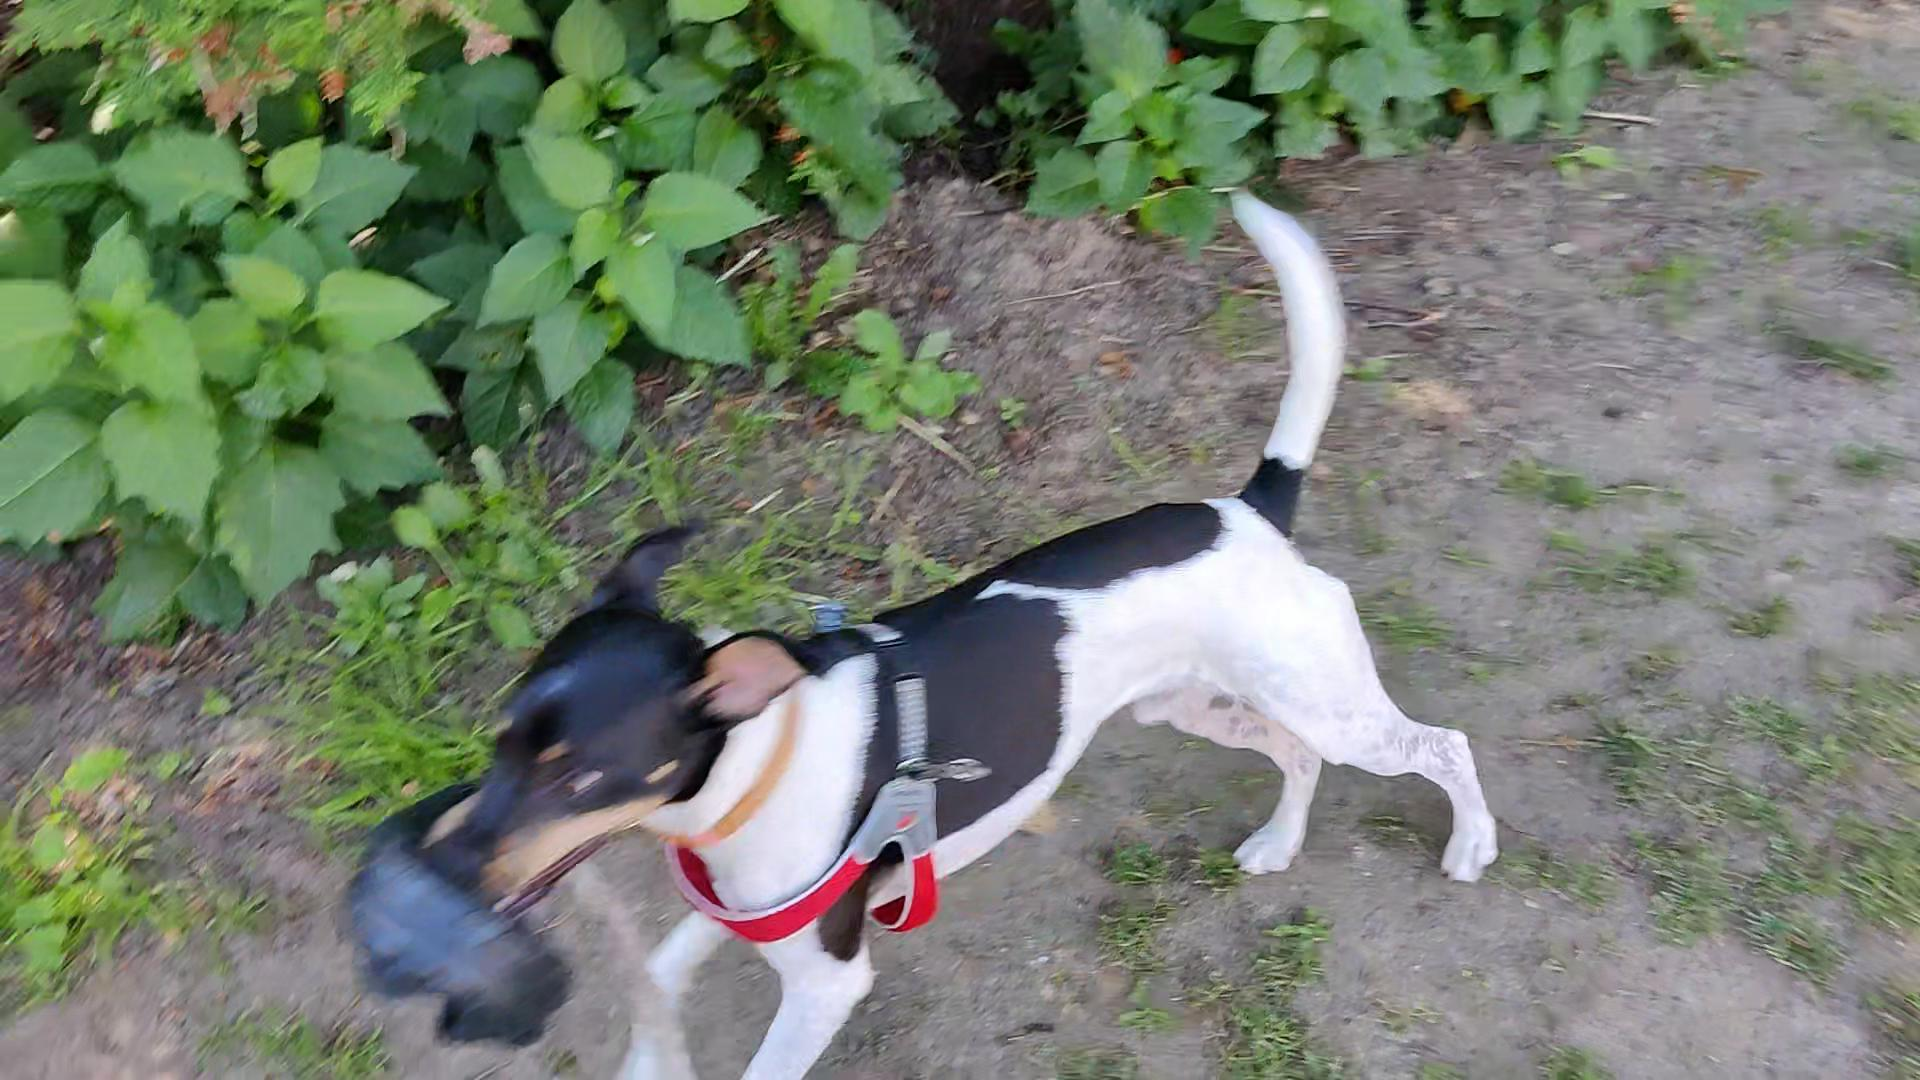Dog: (418, 173, 1519, 1079)
